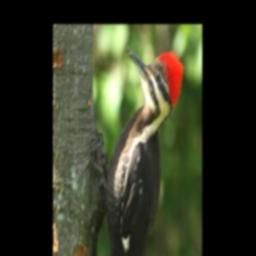Woodpecker: (91, 46, 183, 256)
